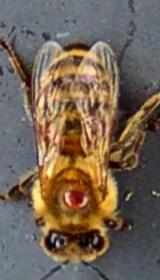varroa_mite: (54, 180, 93, 210)
